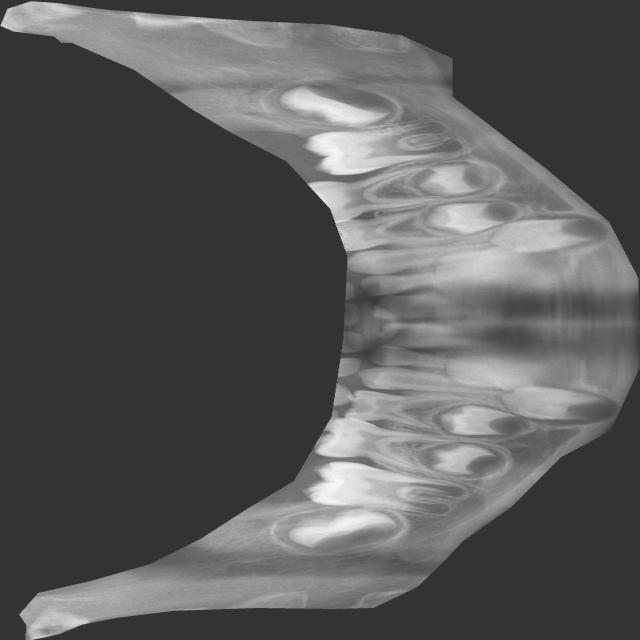mandibula: (0, 0, 640, 640)
